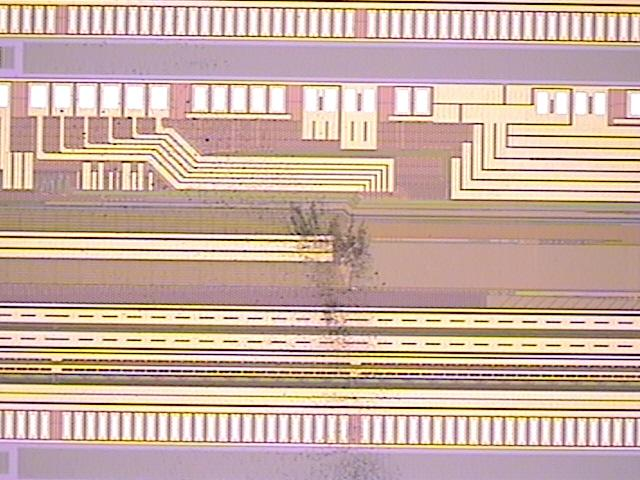PO CONTAMINATION: (57, 92, 407, 480)
